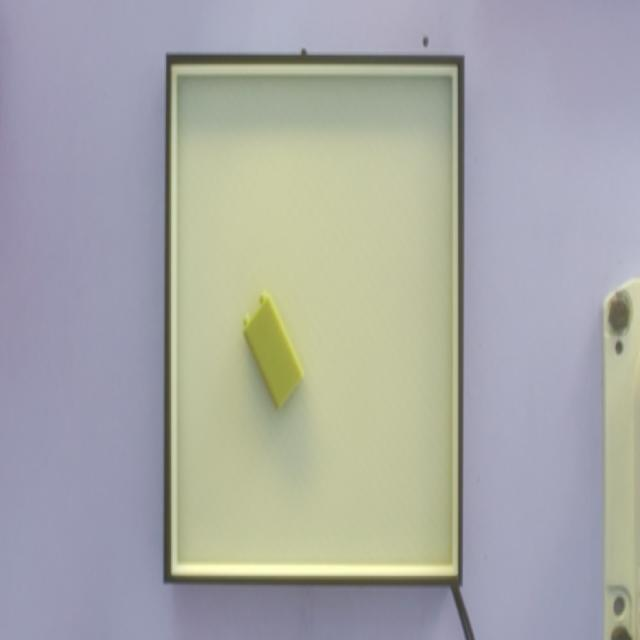bateria: (241, 292, 305, 413)
mesa: (163, 53, 464, 586)
